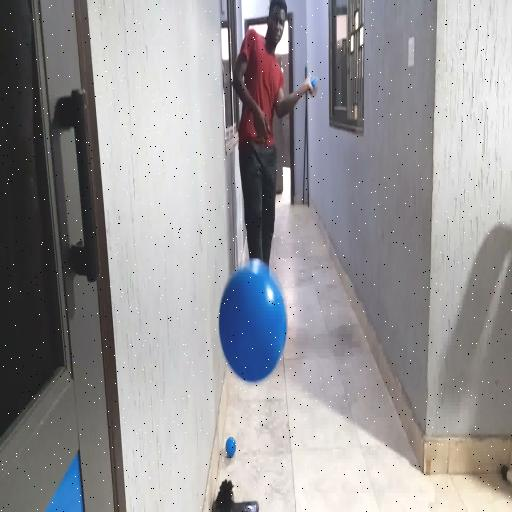plastic-ball: (217, 256, 287, 388)
